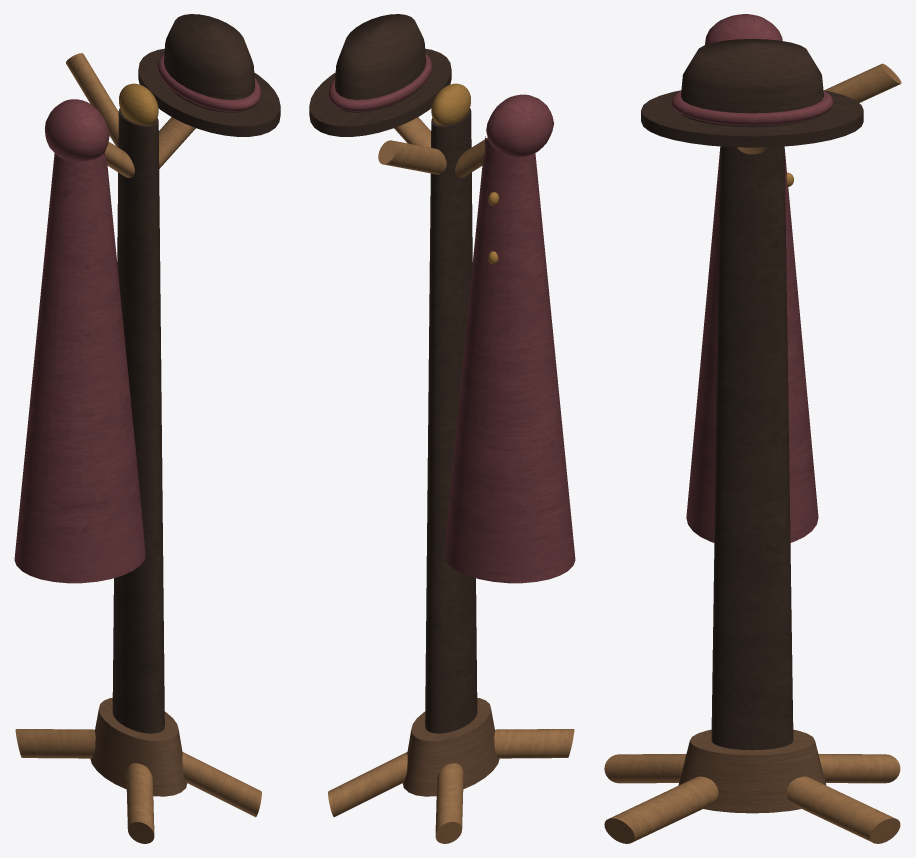
The model's file is coat_rack.glb.
3 renders of one model, left to right at view 1: azimuth 30°, elevation 25°; view 2: azimuth 150°, elevation 25°; view 3: azimuth 270°, elevation 25°, orthographic. The views are drawn at different scales.
Parts seen in each view (by area): view 1: coat_rack; view 2: coat_rack; view 3: coat_rack.
Boxes of the visible parts, x1,y1,x2,y2 form: coat_rack: (14,14,280,843); coat_rack: (309,14,575,843); coat_rack: (604,14,901,843).
Size of the model in its own units: 0.6 by 1.8 by 0.6.
Materials: 1 (1 with a texture image).
